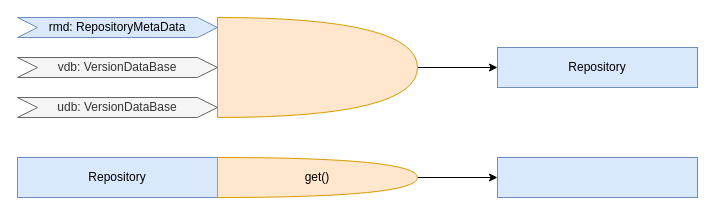
This 715x215 diagram has some shape labels left out. The box of each missing label's shape, as (x1, y1, x2, y2) in pixels:
List[PullRequest]: (496, 156, 698, 198)
Repository() (__init__): (216, 16, 418, 118)
